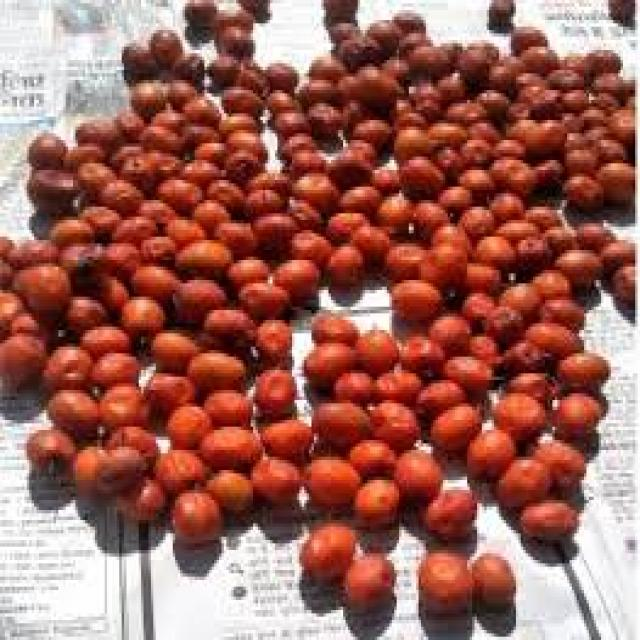organic waste: (290, 516, 355, 576), (163, 270, 224, 333), (492, 450, 545, 513), (10, 263, 68, 320), (418, 547, 469, 610), (199, 420, 258, 473), (141, 367, 200, 420), (92, 437, 146, 493), (44, 383, 97, 440), (190, 340, 246, 393), (530, 433, 582, 490), (170, 487, 222, 543), (153, 443, 204, 500), (341, 550, 394, 603), (518, 493, 577, 540), (148, 320, 207, 367), (523, 313, 584, 357), (297, 460, 358, 503), (204, 464, 256, 514), (426, 484, 477, 534), (27, 426, 78, 476), (552, 386, 601, 436), (0, 336, 49, 386), (248, 453, 300, 500), (470, 550, 516, 603), (312, 400, 372, 440), (156, 174, 204, 224), (97, 383, 151, 427), (467, 427, 511, 480), (418, 240, 462, 293), (78, 197, 122, 250), (365, 397, 419, 440), (438, 346, 496, 386), (163, 400, 207, 450), (66, 443, 104, 500), (270, 253, 319, 297), (119, 473, 168, 517), (39, 343, 88, 387), (258, 416, 311, 456), (557, 347, 606, 390), (202, 297, 251, 340), (29, 167, 78, 210), (355, 480, 399, 527), (353, 63, 397, 110), (180, 236, 231, 276), (492, 386, 542, 426), (412, 370, 462, 410), (346, 436, 396, 476), (76, 264, 126, 304), (389, 280, 443, 317), (304, 340, 353, 380), (469, 227, 514, 270), (251, 360, 292, 407), (248, 210, 292, 253), (151, 100, 195, 143), (336, 180, 392, 213), (394, 150, 436, 193), (251, 313, 292, 357), (190, 193, 231, 237), (434, 400, 479, 440), (397, 450, 438, 493), (455, 40, 496, 83), (487, 150, 533, 187), (499, 337, 550, 370), (97, 176, 139, 216), (323, 143, 368, 180), (331, 367, 377, 403), (555, 247, 601, 283), (297, 73, 345, 107), (374, 370, 418, 407), (7, 303, 44, 347), (80, 317, 129, 350), (324, 206, 377, 236), (200, 387, 248, 420), (12, 237, 56, 273), (523, 114, 562, 154), (562, 170, 604, 207), (304, 100, 346, 137), (236, 280, 287, 310), (290, 226, 328, 266), (66, 293, 107, 330), (92, 347, 134, 383), (355, 220, 392, 260), (122, 40, 156, 83), (314, 307, 358, 340), (132, 260, 176, 293), (458, 263, 497, 300), (596, 160, 635, 197), (579, 43, 621, 77), (226, 253, 268, 287), (124, 297, 163, 333), (49, 213, 90, 247), (356, 327, 394, 363), (409, 74, 443, 114), (431, 310, 467, 347), (326, 237, 363, 273), (134, 193, 173, 227), (58, 243, 107, 270), (508, 370, 552, 400), (368, 166, 412, 196), (284, 144, 328, 174), (610, 263, 638, 310), (76, 120, 124, 147), (540, 294, 582, 324), (238, 184, 280, 214), (377, 193, 414, 227), (234, 53, 268, 90), (27, 130, 61, 167), (151, 30, 180, 73), (290, 164, 331, 194), (134, 226, 175, 256), (212, 4, 253, 34), (402, 333, 438, 367), (183, 93, 219, 127), (523, 200, 560, 233), (389, 7, 426, 40), (265, 57, 302, 90), (334, 33, 379, 60), (348, 117, 394, 143), (404, 43, 448, 70), (0, 283, 22, 337), (60, 140, 104, 167), (378, 47, 423, 73), (95, 236, 134, 266), (458, 160, 487, 200), (460, 130, 491, 167), (601, 240, 635, 273), (384, 240, 418, 273), (144, 120, 178, 153), (610, 100, 638, 140), (516, 40, 557, 67), (433, 140, 458, 183), (545, 60, 584, 87), (516, 227, 545, 263), (516, 67, 545, 103), (117, 107, 146, 143), (76, 160, 114, 187), (487, 297, 518, 330), (256, 167, 287, 200), (504, 280, 538, 310), (502, 214, 536, 244), (438, 180, 472, 210), (465, 204, 499, 234), (474, 84, 508, 114), (287, 196, 321, 226), (224, 146, 258, 176), (448, 97, 487, 123), (272, 127, 316, 150), (591, 73, 628, 100), (394, 30, 431, 57), (219, 220, 256, 247), (268, 107, 306, 133), (212, 23, 253, 47), (577, 223, 613, 250), (168, 67, 195, 103), (530, 267, 567, 293), (365, 20, 397, 50), (127, 77, 163, 103), (533, 84, 564, 114), (122, 150, 153, 180), (392, 130, 426, 157), (263, 83, 297, 110), (323, 17, 358, 43), (484, 0, 514, 30), (506, 27, 545, 50), (535, 157, 562, 190), (436, 67, 470, 93), (194, 137, 228, 163), (596, 140, 628, 167), (210, 60, 238, 90), (548, 223, 579, 250), (494, 187, 526, 213), (414, 200, 438, 233), (562, 147, 596, 170), (306, 53, 352, 70), (396, 103, 441, 120), (346, 133, 374, 160), (185, 0, 216, 23), (484, 54, 506, 84), (489, 133, 526, 150), (462, 290, 489, 313), (469, 117, 496, 140), (582, 104, 613, 124), (182, 53, 200, 87), (0, 234, 12, 284), (564, 123, 586, 150), (322, 10, 356, 27), (509, 110, 528, 137), (608, 0, 630, 23), (586, 120, 611, 140), (468, 330, 497, 347), (153, 147, 173, 170), (238, 0, 267, 13), (506, 97, 528, 113), (323, 0, 358, 10), (236, 0, 251, 7)
